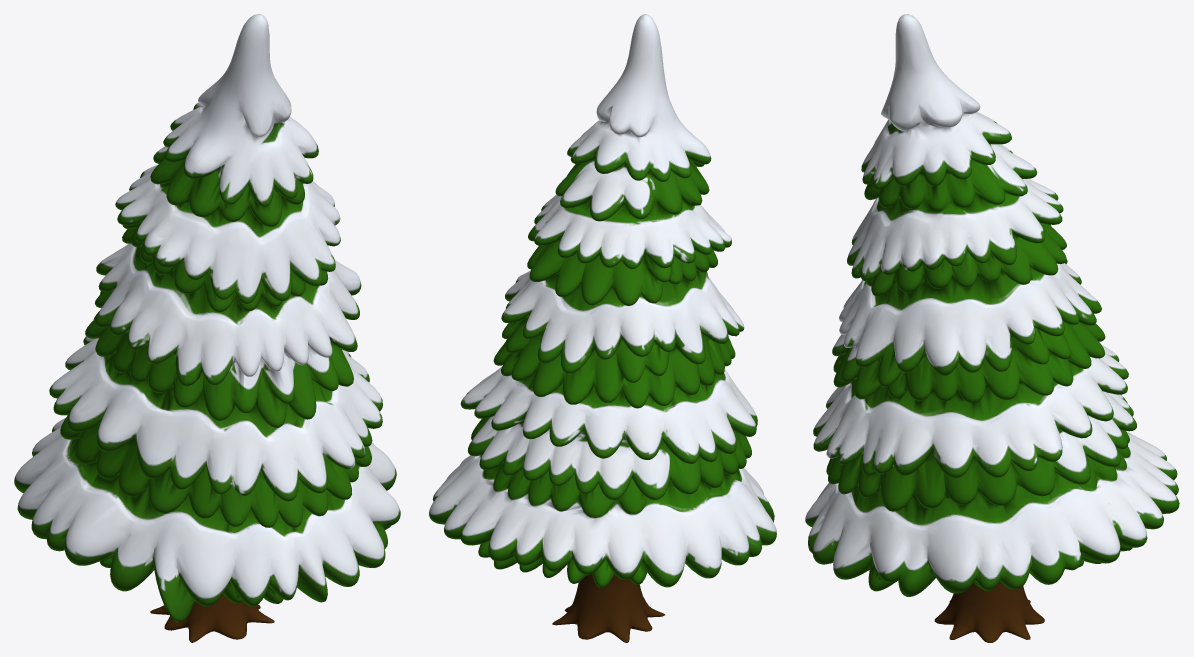
Rendered from snowtree.glb.
3 renders of one model, left to right at view 1: azimuth 30°, elevation 25°; view 2: azimuth 150°, elevation 25°; view 3: azimuth 270°, elevation 25°, orthographic. The views are drawn at different scales.
Parts seen in each view (by area): view 1: node_0; view 2: node_0; view 3: node_0.
Boxes of the visible parts, left/top/right/bottom form: node_0: left=14, top=14, right=400, bottom=642; node_0: left=429, top=14, right=776, bottom=642; node_0: left=805, top=14, right=1179, bottom=642.
Size of the model in its own units: 0.639 by 1.16 by 0.6475.
1 material, 1 textured.
